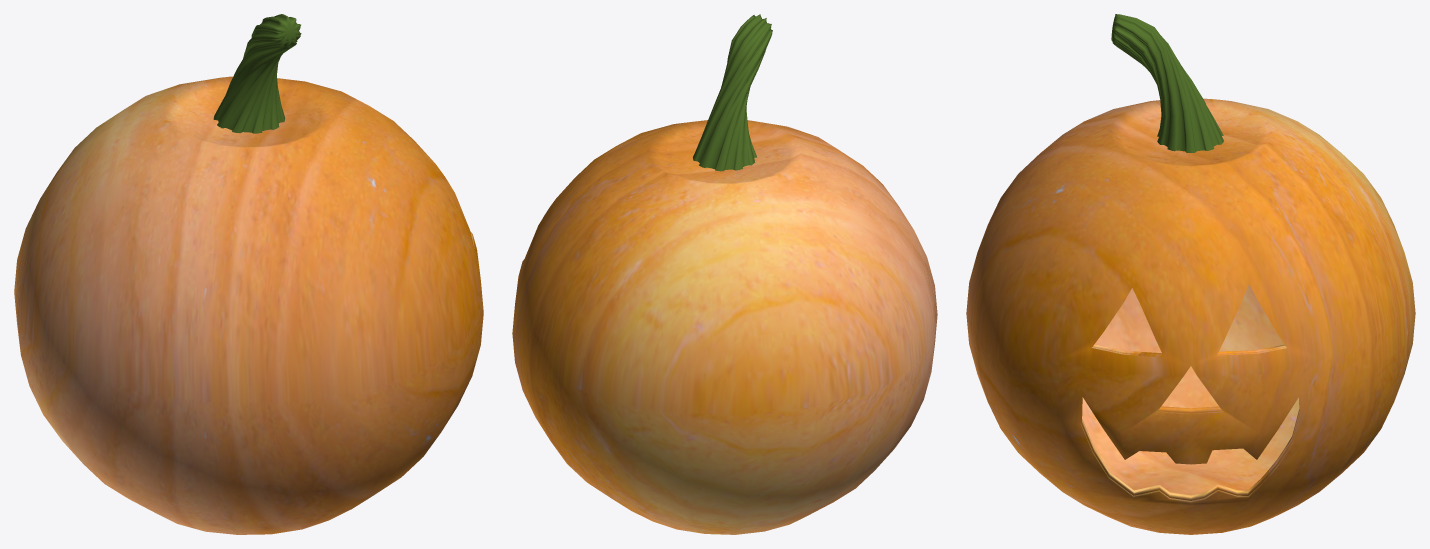
Rendered from Jack_O_Latern 1.fbx.
3 renders of one model, left to right at view 1: azimuth 30°, elevation 25°; view 2: azimuth 150°, elevation 25°; view 3: azimuth 270°, elevation 25°, orthographic. The views are drawn at different scales.
Parts seen in each view (by area): view 1: pSphere5; view 2: pSphere5; view 3: pSphere5.
Boxes of the visible parts, left/top/right/bottom form: pSphere5: left=14, top=14, right=483, bottom=534; pSphere5: left=512, top=14, right=937, bottom=534; pSphere5: left=966, top=14, right=1415, bottom=534.
Bounding box in the file's own units: 5.17 × 6.13 × 5.18.
